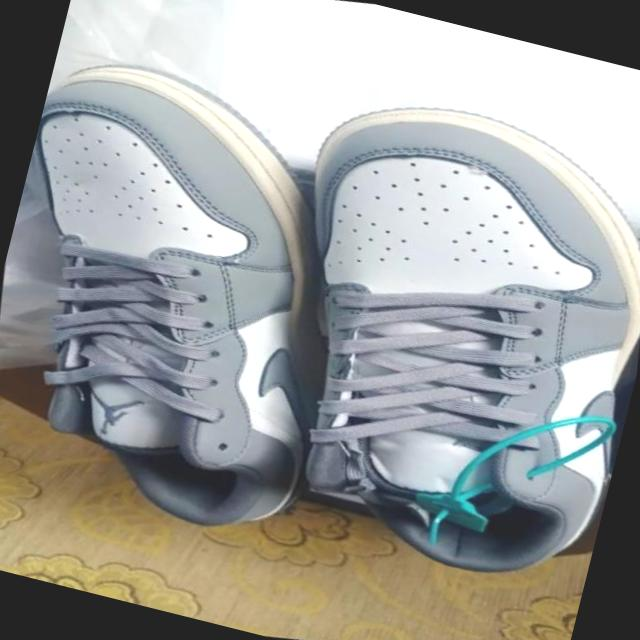nike_fake_jordan: (209, 48, 640, 629), (0, 15, 415, 582)
